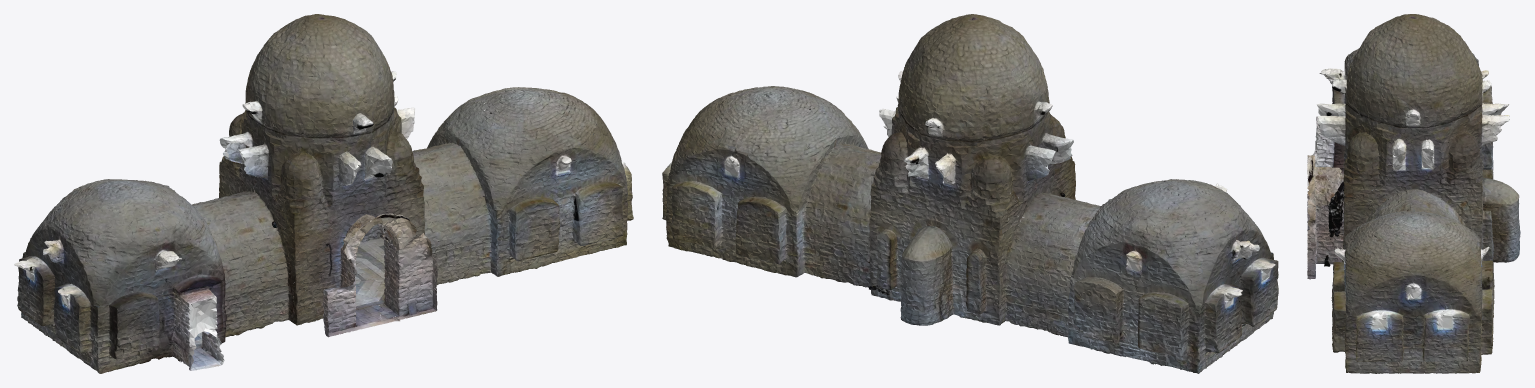
Rendered from mosque.glb.
3 renders of one model, left to right at view 1: azimuth 30°, elevation 25°; view 2: azimuth 150°, elevation 25°; view 3: azimuth 270°, elevation 25°, orthographic. The views are drawn at different scales.
Parts seen in each view (by area): view 1: Model; view 2: Model; view 3: Model.
Part boxes in pixels (x1,y1,x2,y2): Model: [14, 14, 633, 373]; Model: [662, 14, 1278, 373]; Model: [1307, 14, 1520, 373].
Bounding box in the file's own units: 19.7 × 8.8 × 7.11.
1 material, 1 textured.
